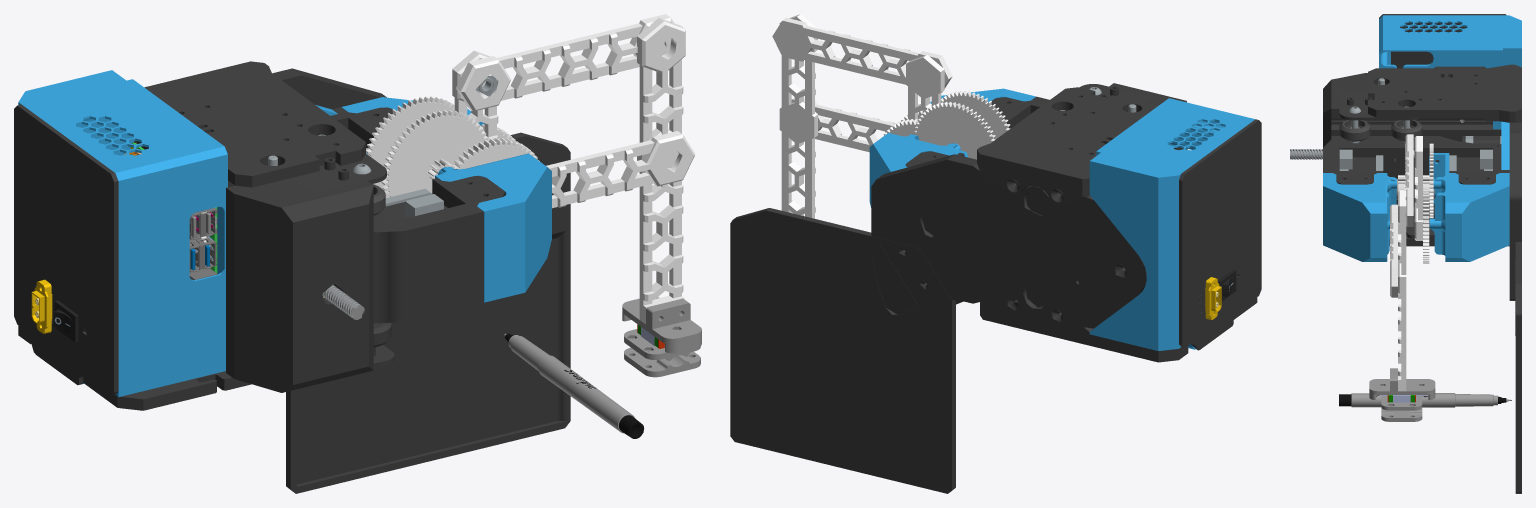
3 views of the same model, side by side, from view 1: azimuth 30°, elevation 25°; view 2: azimuth 150°, elevation 25°; view 3: azimuth 270°, elevation 25° (orthographic). The views are drawn at different scales.
Parts seen in each view (by area): view 1: baseplate, intframe (2), Body37, lift stepper, Body1, Body1:35, Body26, Body1:42, Body1:31; view 2: baseplate, intframe (2), Body37, lift stepper, Body1:42; view 3: intframe (2), lift stepper, baseplate, Body37, Body1, Body1:35, Body1:14.
Part boxes in pixels (bbox=[...]): baseplate: bbox=[14, 68, 570, 493]; intframe (2): bbox=[18, 70, 551, 397]; Body37: bbox=[366, 14, 695, 324]; lift stepper: bbox=[144, 61, 447, 368]; Body1: bbox=[322, 285, 701, 438]; Body1:35: bbox=[268, 75, 497, 317]; Body26: bbox=[189, 208, 217, 280]; Body1:42: bbox=[31, 279, 52, 333]; Body1:31: bbox=[53, 300, 78, 342]; baseplate: bbox=[730, 83, 1261, 493]; intframe (2): bbox=[869, 88, 1255, 350]; Body37: bbox=[772, 14, 1010, 218]; lift stepper: bbox=[977, 84, 1157, 204]; Body1:42: bbox=[1205, 277, 1221, 319]; intframe (2): bbox=[1323, 15, 1521, 261]; lift stepper: bbox=[1331, 64, 1521, 238]; baseplate: bbox=[1323, 14, 1521, 493]; Body37: bbox=[1390, 134, 1433, 391]; Body1: bbox=[1290, 119, 1511, 421]; Body1:35: bbox=[1290, 78, 1501, 170]; Body1:14: bbox=[1339, 120, 1422, 141].
Size of the model in its own units: 35.14 by 26.05 by 17.86.
